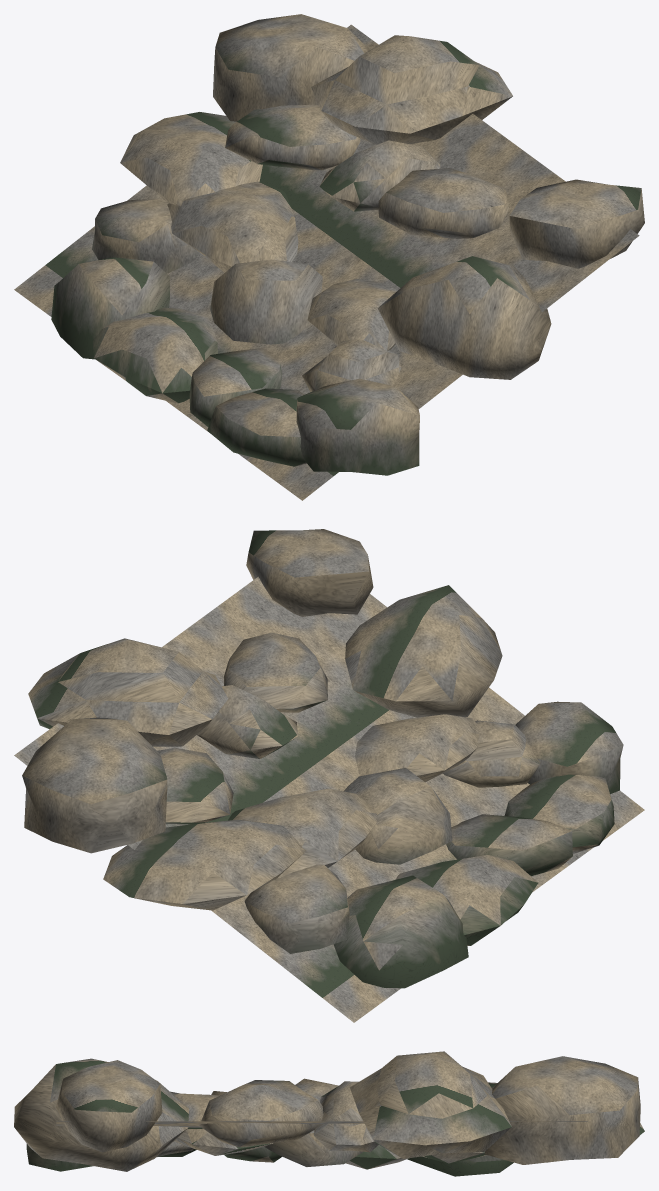
File: SM_Molo_Scogliera_C_v2.fbx
3 renders of one model, top to bottom at view 1: azimuth 30°, elevation 25°; view 2: azimuth 150°, elevation 25°; view 3: azimuth 270°, elevation 25°, orthographic. The views are drawn at different scales.
Visible parts, largest first — view 1: SM_Molo_Scogliera_C_v2; view 2: SM_Molo_Scogliera_C_v2; view 3: SM_Molo_Scogliera_C_v2.
Boxes of the visible parts, bbox=[...] form: SM_Molo_Scogliera_C_v2: bbox=[14, 14, 644, 500]; SM_Molo_Scogliera_C_v2: bbox=[14, 529, 644, 1022]; SM_Molo_Scogliera_C_v2: bbox=[14, 1051, 644, 1176].
Size of what is drawn, in the model's own units: 686 by 951 by 368.
Materials: 1 (1 with a texture image).
